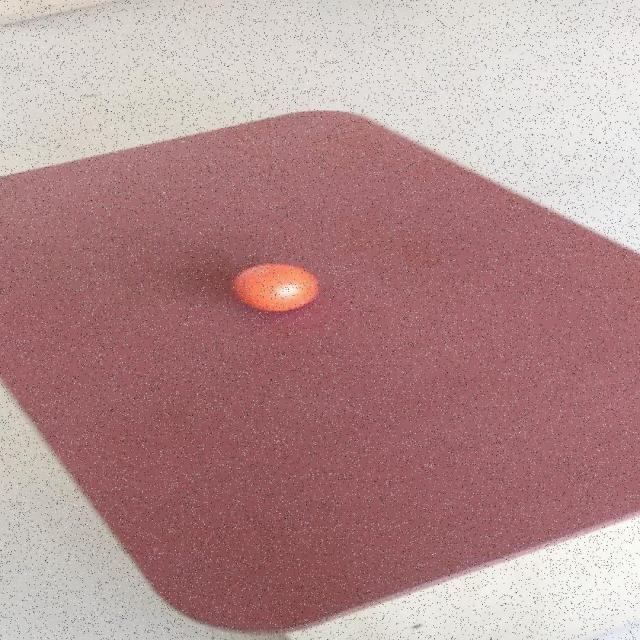Orange: (234, 262, 321, 312)
